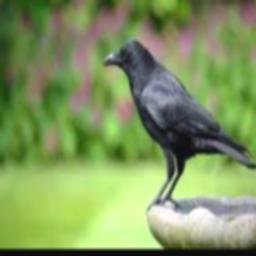Crow: (103, 38, 256, 210)
